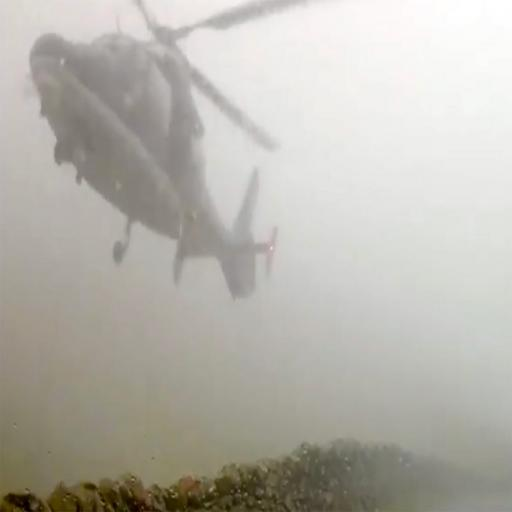helicopter: (30, 2, 292, 302)
